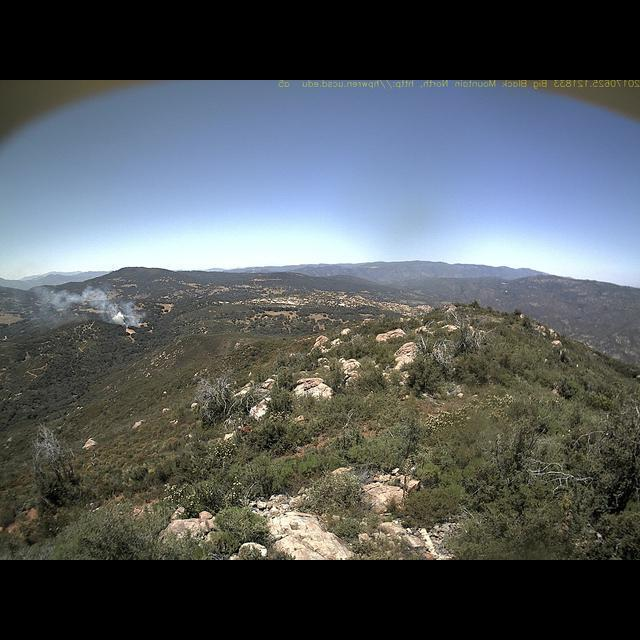Smoke: (24, 275, 145, 333)
